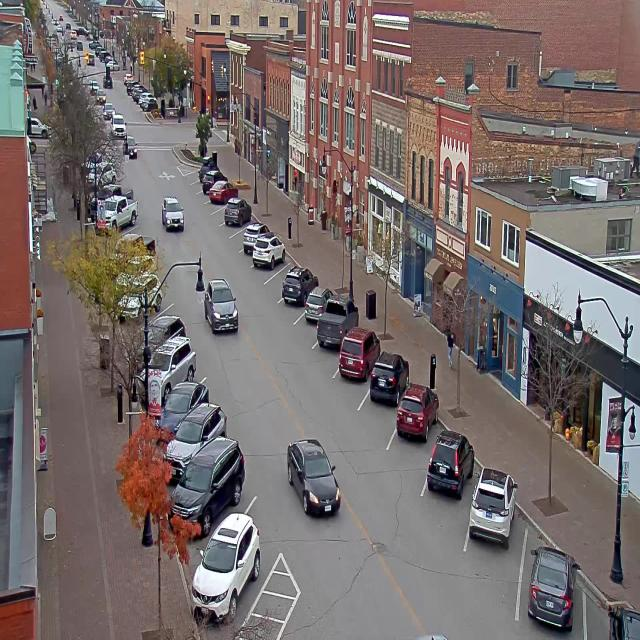available: (300, 284, 333, 326), (268, 260, 291, 293), (228, 221, 248, 250), (210, 202, 228, 227), (182, 169, 199, 183)
occupied: (195, 512, 274, 622), (169, 435, 245, 538), (527, 544, 579, 630), (468, 466, 518, 547), (169, 402, 236, 459), (140, 335, 205, 390), (426, 429, 475, 497), (154, 381, 208, 442), (396, 375, 440, 446), (342, 326, 381, 388), (594, 590, 639, 640), (369, 350, 409, 406), (316, 296, 358, 349), (142, 312, 186, 349), (282, 265, 318, 304), (252, 231, 284, 269), (224, 196, 252, 226), (242, 222, 269, 252), (210, 179, 238, 203), (200, 167, 224, 192), (198, 154, 217, 182)
